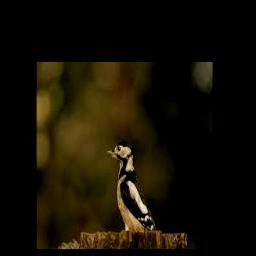Woodpecker: (105, 142, 156, 231)
